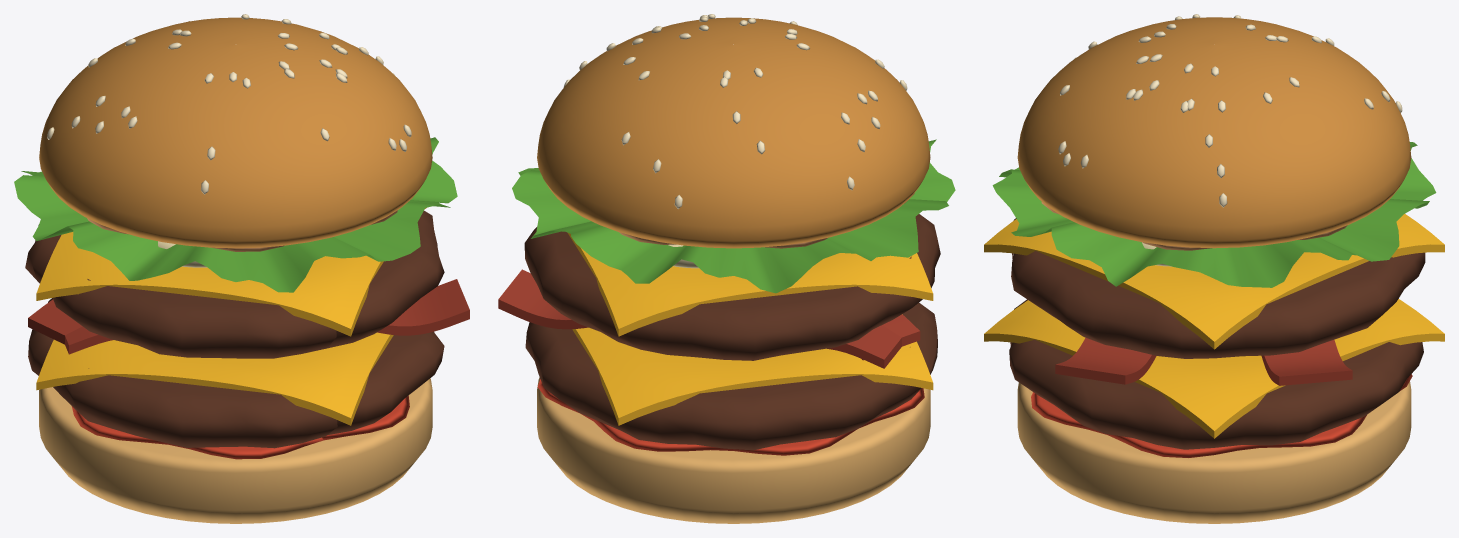
The model's file is bigbang-burger.glb.
3 views of the same model, side by side, from view 1: azimuth 30°, elevation 25°; view 2: azimuth 150°, elevation 25°; view 3: azimuth 270°, elevation 25° (orthographic).
Visible parts, largest first — view 1: Top_Bun, Bottom_Bun, Patty_Top, Patty_Bottom, Lettuce, Cheese_Bottom, Cheese_Top, Bacon, Sauce_Bottom; view 2: Top_Bun, Bottom_Bun, Patty_Top, Patty_Bottom, Lettuce, Cheese_Bottom, Cheese_Top, Bacon, Sauce_Bottom; view 3: Top_Bun, Bottom_Bun, Patty_Top, Patty_Bottom, Lettuce, Cheese_Bottom, Cheese_Top, Bacon, Sauce_Bottom.
Boxes of the visible parts, x1=… form: Top_Bun: x1=39, y1=14, x2=432, y2=248; Bottom_Bun: x1=39, y1=378, x2=432, y2=523; Patty_Top: x1=25, y1=210, x2=444, y2=358; Patty_Bottom: x1=28, y1=298, x2=444, y2=448; Lettuce: x1=14, y1=137, x2=457, y2=292; Cheese_Bottom: x1=36, y1=332, x2=393, y2=425; Cheese_Top: x1=36, y1=207, x2=426, y2=336; Bacon: x1=28, y1=279, x2=469, y2=354; Sauce_Bottom: x1=71, y1=395, x2=409, y2=459; Top_Bun: x1=537, y1=14, x2=930, y2=248; Bottom_Bun: x1=537, y1=377, x2=930, y2=523; Patty_Top: x1=524, y1=214, x2=940, y2=360; Patty_Bottom: x1=525, y1=302, x2=937, y2=450; Lettuce: x1=512, y1=139, x2=955, y2=293; Cheese_Bottom: x1=572, y1=314, x2=933, y2=425; Cheese_Top: x1=567, y1=232, x2=933, y2=336; Bacon: x1=498, y1=269, x2=920, y2=368; Sauce_Bottom: x1=537, y1=379, x2=924, y2=455; Top_Bun: x1=1017, y1=14, x2=1411, y2=248; Bottom_Bun: x1=1017, y1=381, x2=1411, y2=523; Patty_Top: x1=1011, y1=218, x2=1425, y2=358; Patty_Bottom: x1=1009, y1=299, x2=1423, y2=449; Lettuce: x1=992, y1=142, x2=1436, y2=287; Cheese_Bottom: x1=984, y1=299, x2=1444, y2=438; Cheese_Top: x1=984, y1=214, x2=1444, y2=349; Bacon: x1=1055, y1=337, x2=1352, y2=385; Sauce_Bottom: x1=1031, y1=374, x2=1412, y2=457.
Size of the model in its own units: 0.1358 by 0.131 by 0.1358.
